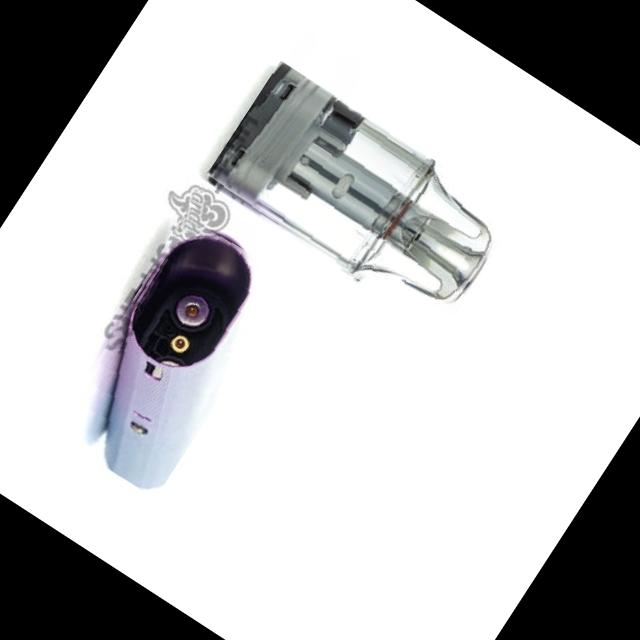Hazard: (200, 60, 518, 335), (43, 207, 296, 498)
